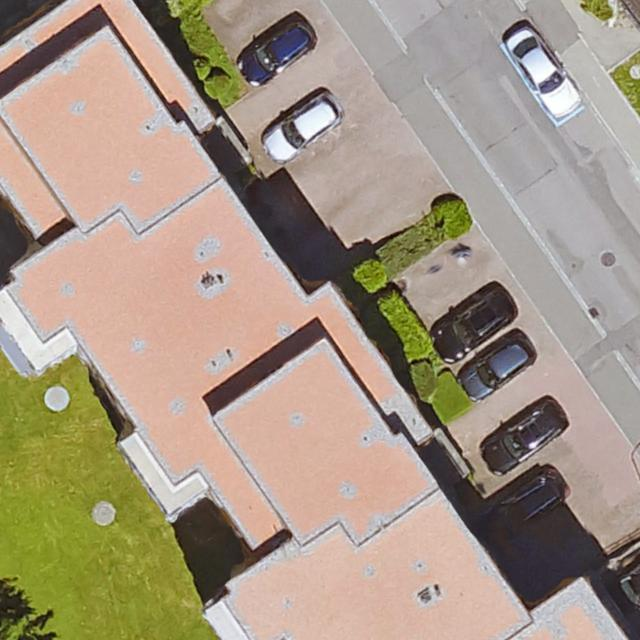tree: (0, 618, 35, 640)
